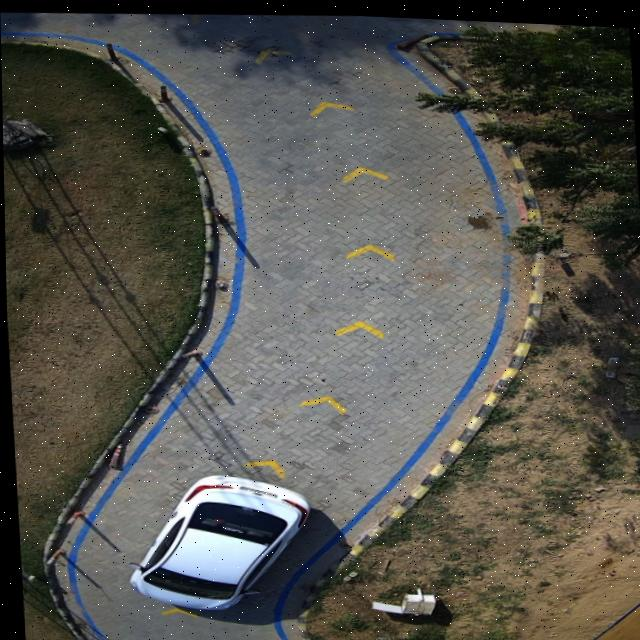car: (127, 471, 308, 606)
